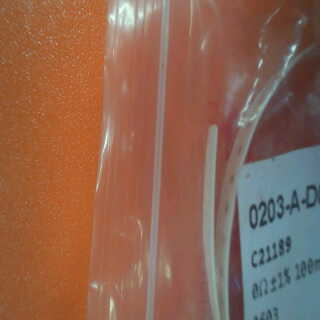0R: (252, 266, 293, 320)
